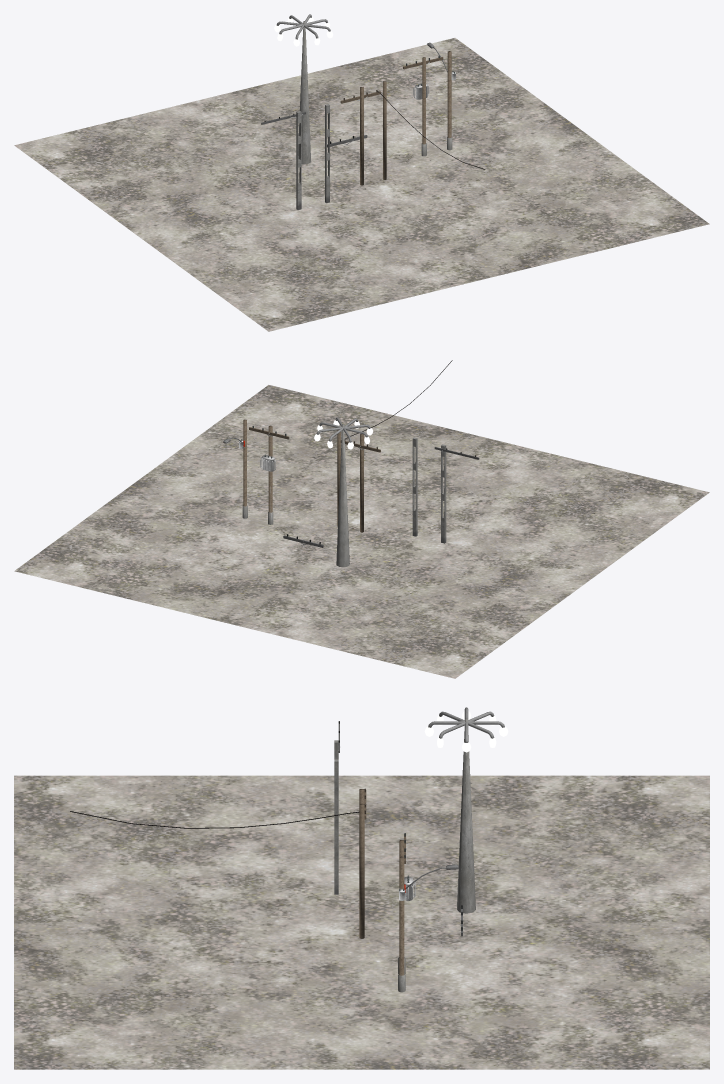
File: powe_poles.glb
3 views of the same model, one above another, from view 1: azimuth 30°, elevation 25°; view 2: azimuth 150°, elevation 25°; view 3: azimuth 270°, elevation 25° (orthographic). The views are drawn at different scales.
Visible parts, largest first — view 1: Floor, BigPole, ConcretePole, BaseWoodPole, WoodPole, BasePole; view 2: Floor, BigPole, ConcretePole, SingleConcretePole, BaseWoodPole, WoodPole; view 3: Floor, BigPole, SingleWoodPole, BasePole, SingleConcretePole.
Part boxes in pixels (x1,y1,x2,y2): Floor: (14,38,709,331); BigPole: (274,14,333,164); ConcretePole: (261,111,305,209); BaseWoodPole: (403,55,443,156); WoodPole: (340,87,380,185); BasePole: (447,51,452,150); Floor: (14,385,709,678); BigPole: (314,417,373,567); ConcretePole: (434,444,479,543); SingleConcretePole: (412,437,417,536); BaseWoodPole: (249,425,289,524); WoodPole: (340,434,380,532); Floor: (14,775,709,1069); BigPole: (424,707,508,913); SingleWoodPole: (359,804,364,938); BasePole: (398,856,405,992); SingleConcretePole: (334,759,338,894).
Bounding box in the file's own units: 2363 × 728 × 2363.
Materials: 13 (12 with a texture image).
